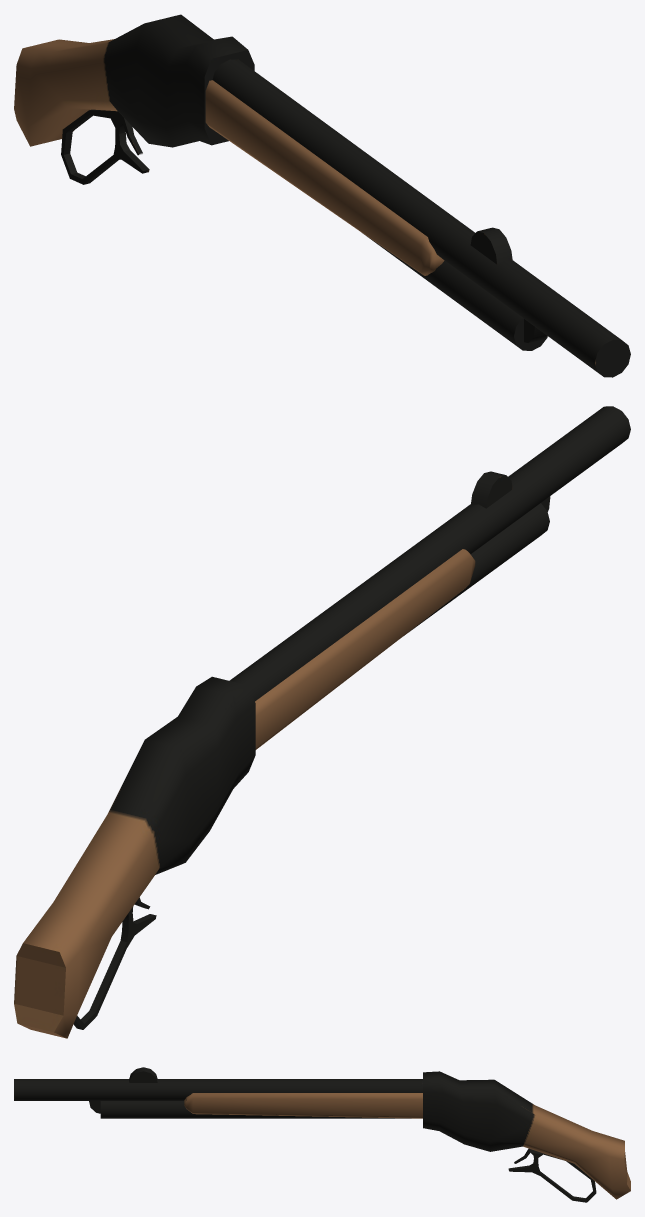
The model's file is shotgun.obj.
3 views of the same model, one above another, from view 1: azimuth 30°, elevation 25°; view 2: azimuth 150°, elevation 25°; view 3: azimuth 270°, elevation 25° (orthographic). The views are drawn at different scales.
Parts seen in each view (by area): view 1: polySurface2; view 2: polySurface2; view 3: polySurface2.
Part boxes in pixels (x1,y1,x2,y2): polySurface2: [14, 14, 630, 377]; polySurface2: [14, 406, 630, 1038]; polySurface2: [14, 1067, 630, 1202].
Size of the model in its own units: 1.45 by 6.81 by 28.54.
1 material, 1 textured.
